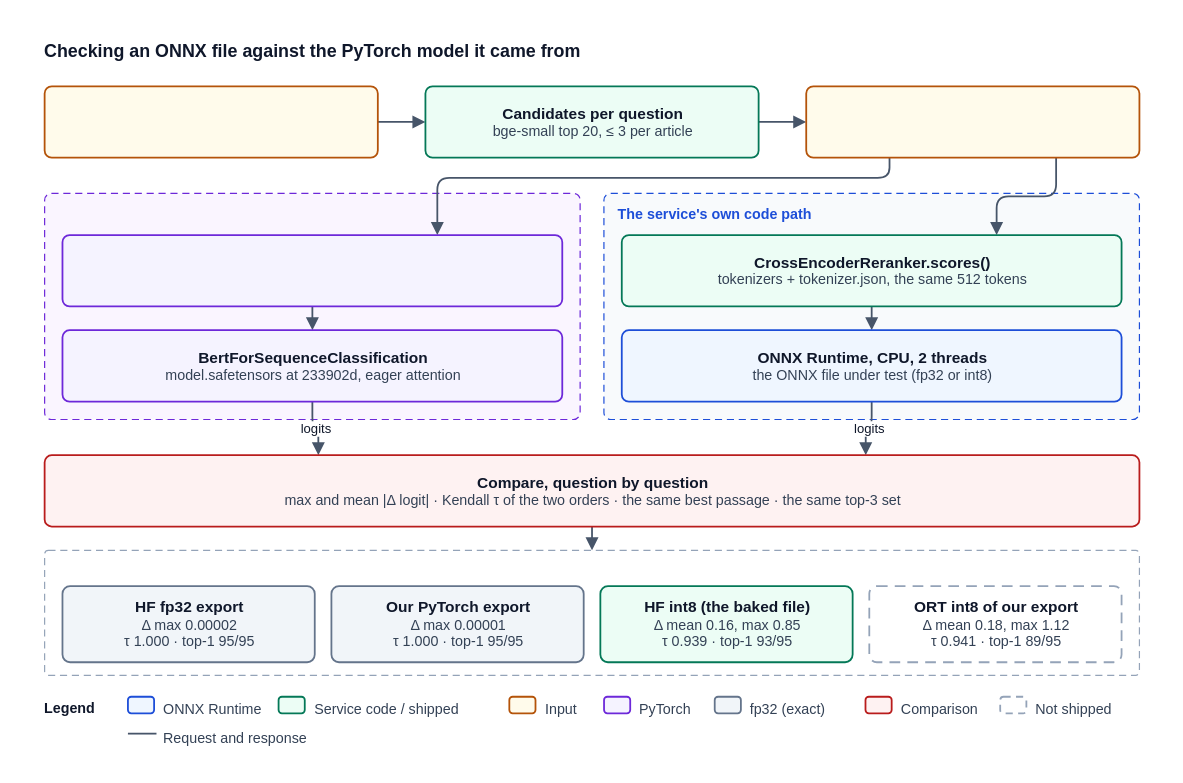
Image size: 1183x783. Some labels were removed from this diagram. Each missing label, with the box of its shape:
95 eval questions app/data/rag_eval.yaml: (43, 85, 378, 158)
959 (question, passage) pairs passage_text(): title › heading + text: (805, 85, 1140, 158)
PyTorch reference (the train group): (43, 192, 580, 419)
Results, 22 November 2026: (43, 549, 1139, 675)
transformers AutoTokenizer pairs, truncated to 512 tokens, padded per batch: (61, 234, 563, 307)
